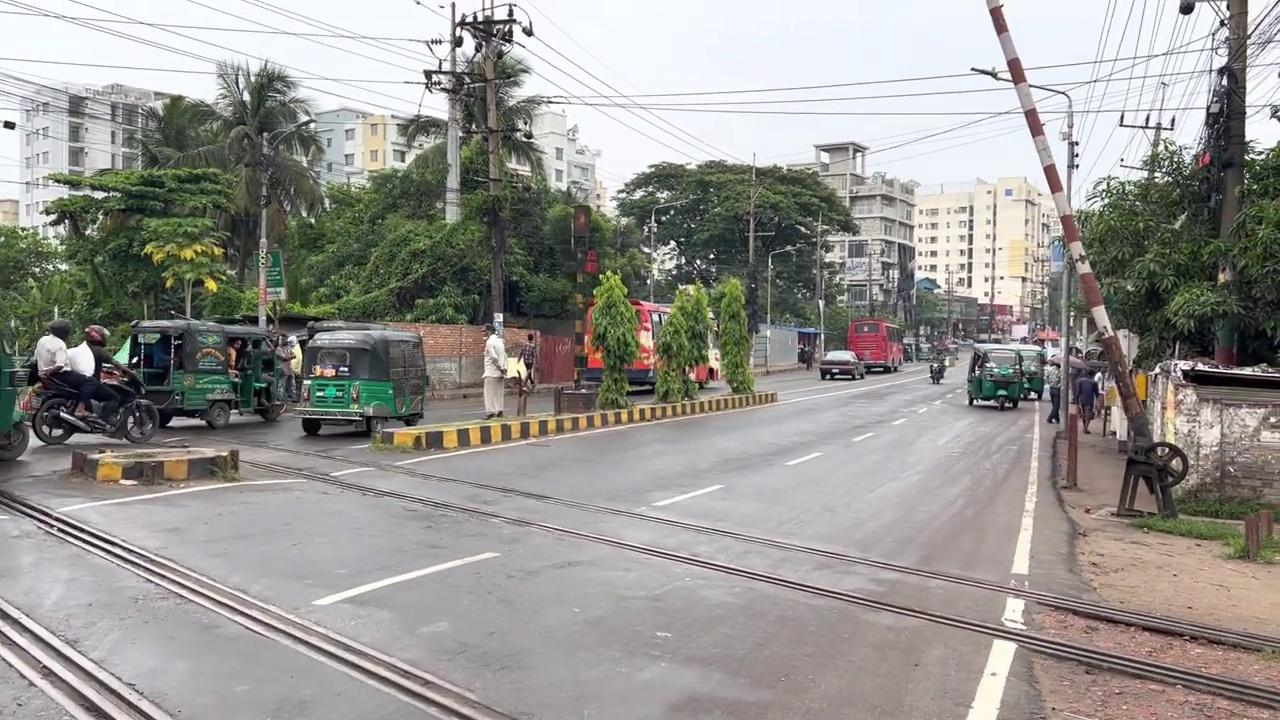Bollard: (818, 349, 866, 380)
Car: (378, 387, 778, 452)
Curb: (29, 360, 159, 445), (928, 353, 946, 384)
Fence: (66, 324, 145, 426), (33, 318, 98, 419), (480, 323, 507, 419), (516, 332, 537, 393)
Garbage: (984, 1, 1180, 518), (1211, 0, 1248, 365), (443, 1, 461, 225)
Motorcycle: (416, 468, 1006, 652)
Railroad-crossing: (136, 56, 330, 324), (651, 281, 711, 403), (588, 268, 639, 409), (708, 274, 755, 393)
Rickshaw: (125, 315, 288, 429), (575, 296, 719, 392), (0, 332, 31, 461), (846, 318, 904, 373)
